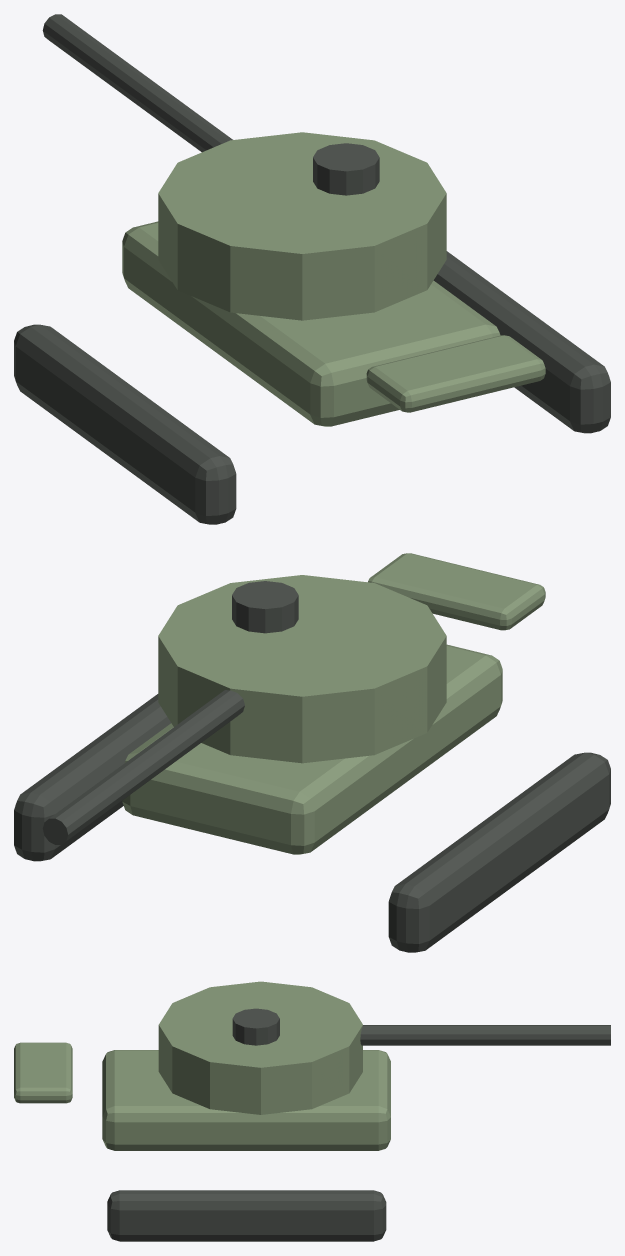
The model's file is ussr_t72.glb.
3 renders of one model, top to bottom at view 1: azimuth 30°, elevation 25°; view 2: azimuth 150°, elevation 25°; view 3: azimuth 270°, elevation 25°, orthographic. The views are drawn at different scales.
Visible parts, largest first — view 1: turret, hull, left_track, right_track, rear_deck, gun, cupola; view 2: turret, hull, left_track, right_track, rear_deck, gun, cupola; view 3: turret, hull, right_track, gun, rear_deck, cupola.
Part boxes in pixels (x1=…): turret: x1=158, y1=132, x2=446, y2=320; hull: x1=122, y1=221, x2=500, y2=426; left_track: x1=14, y1=324, x2=236, y2=524; right_track: x1=433, y1=251, x2=610, y2=433; rear_deck: x1=366, y1=335, x2=545, y2=412; gun: x1=42, y1=14, x2=232, y2=152; cupola: x1=313, y1=143, x2=379, y2=195; turret: x1=158, y1=575, x2=446, y2=763; hull: x1=122, y1=644, x2=502, y2=854; left_track: x1=388, y1=752, x2=610, y2=952; right_track: x1=14, y1=694, x2=170, y2=861; rear_deck: x1=368, y1=553, x2=545, y2=630; gun: x1=42, y1=690, x2=244, y2=844; cupola: x1=232, y1=581, x2=298, y2=633; turret: x1=158, y1=981, x2=362, y2=1114; hull: x1=102, y1=1050, x2=390, y2=1150; right_track: x1=107, y1=1190, x2=386, y2=1241; gun: x1=360, y1=1025, x2=610, y2=1045; rear_deck: x1=14, y1=1042, x2=72, y2=1103; cupola: x1=232, y1=1008, x2=279, y2=1045.
Bounding box in the file's own units: 3.29 × 1.83 × 5.81.
